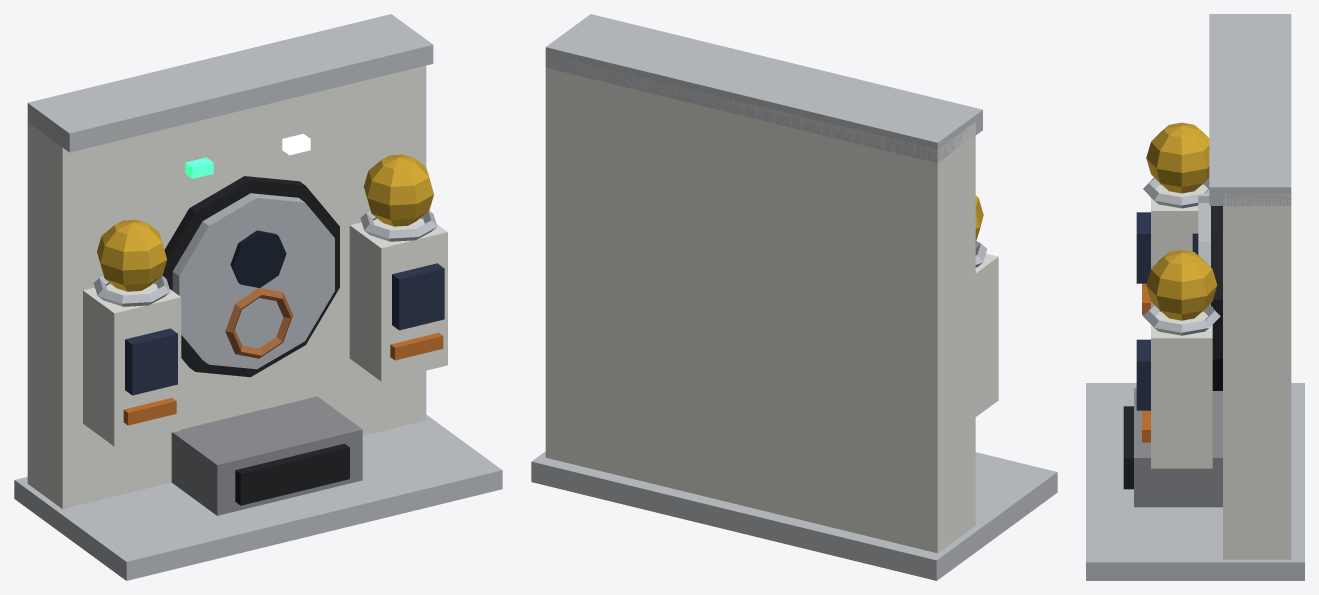
Rendered from cabin-eva-airlock.glb.
The picture shows the model from 3 angles, left to right: view 1: azimuth 30°, elevation 25°; view 2: azimuth 150°, elevation 25°; view 3: azimuth 270°, elevation 25°; orthographic projection. The views are drawn at different scales.
Parts seen in each view (by area): view 1: CabinEvaAirlock_Hull, CabinEvaAirlock_Aluminum, CabinEvaAirlock_Steel, CabinEvaAirlock_Titanium, CabinEvaAirlock_HullBlack, CabinEvaAirlock_VisorGold, CabinEvaAirlock_Pack, CabinEvaAirlock_Visor, CabinEvaAirlock_Foam, CabinEvaAirlock_Copper; view 2: CabinEvaAirlock_Hull, CabinEvaAirlock_Aluminum; view 3: CabinEvaAirlock_Hull, CabinEvaAirlock_Aluminum, CabinEvaAirlock_VisorGold, CabinEvaAirlock_Titanium, CabinEvaAirlock_HullBlack, CabinEvaAirlock_Steel, CabinEvaAirlock_Pack, CabinEvaAirlock_Foam.
Boxes of the visible parts, <box> form: CabinEvaAirlock_Hull: <box>27,65,447,508</box>; CabinEvaAirlock_Aluminum: <box>14,14,502,580</box>; CabinEvaAirlock_Steel: <box>93,193,437,369</box>; CabinEvaAirlock_Titanium: <box>171,396,362,515</box>; CabinEvaAirlock_HullBlack: <box>162,176,349,505</box>; CabinEvaAirlock_VisorGold: <box>97,154,433,291</box>; CabinEvaAirlock_Pack: <box>125,263,444,395</box>; CabinEvaAirlock_Visor: <box>230,230,286,287</box>; CabinEvaAirlock_Foam: <box>123,332,443,425</box>; CabinEvaAirlock_Copper: <box>225,288,292,358</box>; CabinEvaAirlock_Hull: <box>545,55,998,553</box>; CabinEvaAirlock_Aluminum: <box>531,14,1057,580</box>; CabinEvaAirlock_Hull: <box>1151,179,1291,559</box>; CabinEvaAirlock_Aluminum: <box>1086,14,1304,580</box>; CabinEvaAirlock_VisorGold: <box>1146,122,1217,320</box>; CabinEvaAirlock_Titanium: <box>1134,388,1222,507</box>; CabinEvaAirlock_HullBlack: <box>1123,206,1222,489</box>; CabinEvaAirlock_Steel: <box>1143,177,1220,335</box>; CabinEvaAirlock_Pack: <box>1136,212,1150,410</box>; CabinEvaAirlock_Foam: <box>1142,283,1150,442</box>.
Bounding box in the file's own units: 0.62 × 0.63 × 0.32.
